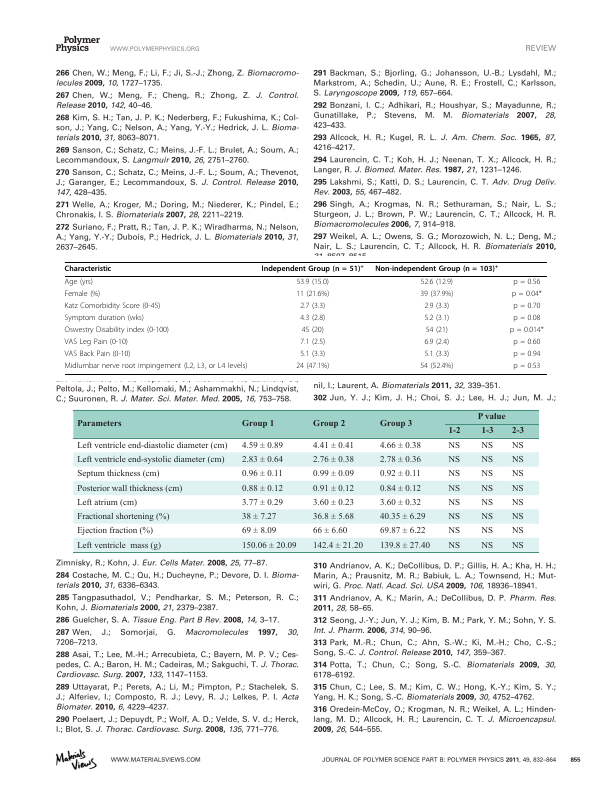borderless: (72, 408, 539, 552), (63, 261, 547, 374)
cell: (64, 362, 248, 371), (75, 441, 228, 451), (75, 455, 225, 465), (374, 263, 499, 274), (261, 263, 365, 274), (75, 484, 183, 494), (64, 326, 170, 336), (64, 302, 161, 312), (75, 512, 170, 522), (75, 469, 160, 480), (75, 541, 161, 551), (75, 526, 153, 537), (64, 314, 145, 324), (75, 498, 137, 508), (64, 350, 131, 359), (64, 338, 129, 347), (241, 541, 297, 551), (379, 526, 426, 537), (312, 541, 363, 551), (379, 541, 430, 551), (379, 512, 426, 522), (241, 469, 283, 480), (312, 469, 354, 480), (379, 469, 421, 480), (76, 420, 122, 430), (64, 265, 112, 274), (241, 441, 283, 451), (312, 441, 354, 451), (379, 441, 421, 451), (241, 455, 283, 465), (312, 455, 354, 465), (379, 455, 421, 465), (241, 484, 283, 494), (312, 484, 354, 494), (379, 484, 421, 494), (241, 498, 283, 508), (312, 498, 354, 508), (379, 498, 421, 508), (312, 512, 354, 522), (241, 526, 277, 537), (312, 526, 348, 537), (64, 290, 101, 300), (509, 326, 545, 336), (241, 512, 277, 522), (295, 278, 330, 288), (295, 290, 330, 300), (419, 290, 454, 300), (378, 420, 413, 430), (420, 278, 454, 288), (241, 420, 275, 430), (312, 420, 346, 430), (511, 290, 543, 300), (295, 362, 330, 371), (419, 362, 454, 371), (64, 278, 94, 288), (476, 413, 506, 423), (512, 278, 541, 288), (512, 302, 541, 312), (512, 314, 541, 324), (299, 302, 326, 312), (423, 302, 450, 312), (299, 314, 326, 324), (423, 314, 450, 324), (512, 338, 541, 347), (512, 350, 541, 359), (512, 362, 541, 371), (299, 338, 326, 347), (423, 338, 450, 347), (299, 350, 326, 359), (423, 350, 450, 359), (301, 326, 325, 336), (425, 326, 449, 336), (447, 469, 461, 480), (480, 469, 494, 480), (447, 526, 461, 537), (480, 526, 494, 537), (511, 469, 524, 480), (511, 526, 524, 537), (447, 427, 461, 437), (480, 427, 494, 437), (510, 427, 524, 437), (447, 441, 461, 451), (480, 441, 494, 451), (447, 455, 461, 465), (480, 455, 494, 465), (447, 484, 461, 494), (480, 484, 494, 494), (447, 498, 461, 508), (480, 498, 494, 508), (447, 512, 461, 522), (480, 512, 494, 522), (447, 541, 461, 551), (480, 541, 494, 551), (511, 441, 524, 451), (511, 455, 524, 465), (511, 484, 524, 494), (511, 498, 524, 508), (511, 512, 524, 522), (511, 541, 524, 551)
